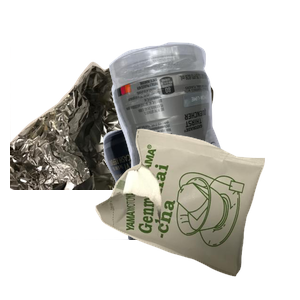glass: (37, 120, 231, 300)
metal: (10, 47, 216, 227)
plastic: (106, 40, 300, 220)
trash: (93, 126, 300, 300)
